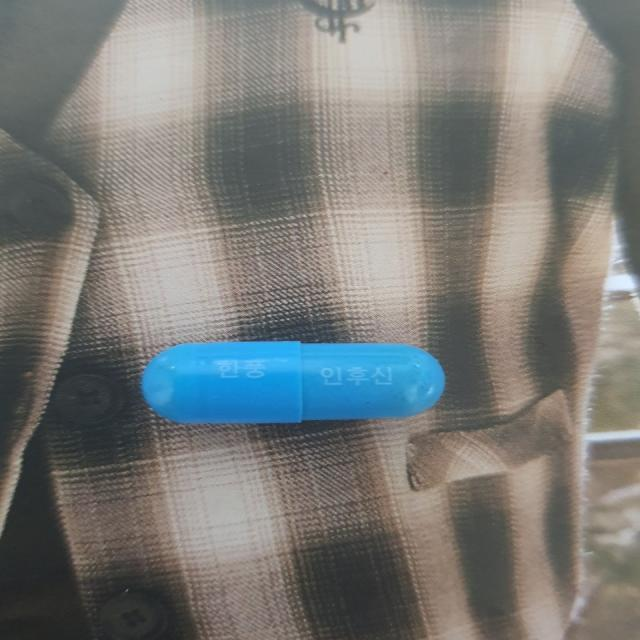pill: (140, 329, 452, 441)
